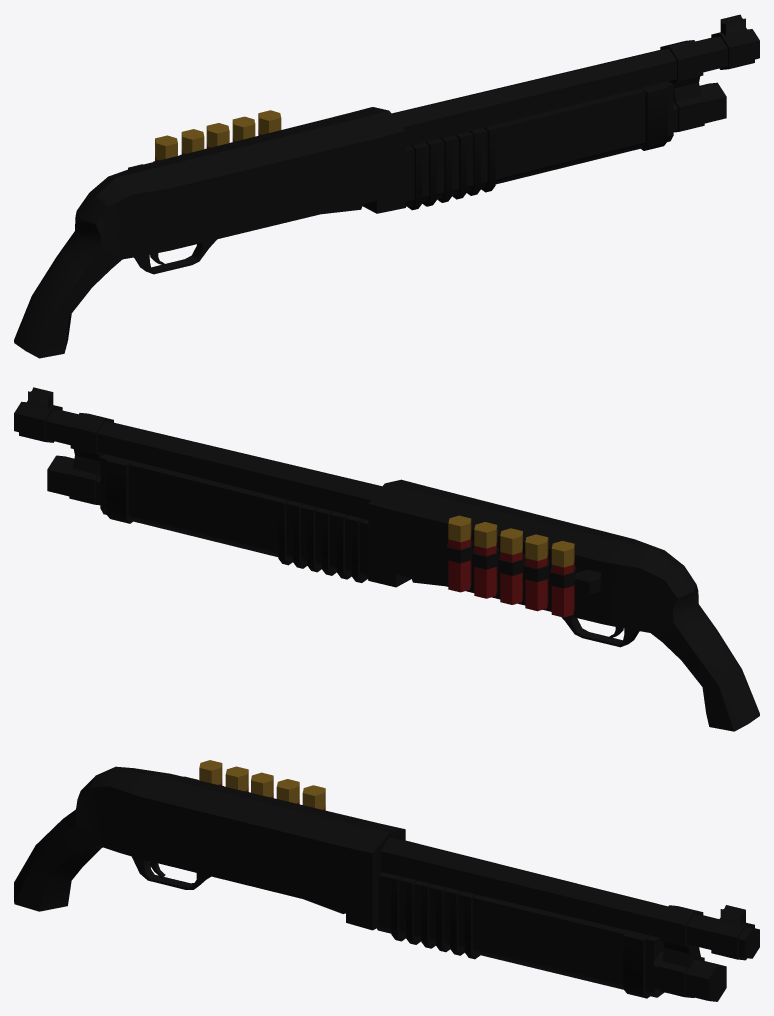
The model's file is Shotgun.FBX.
The picture shows the model from 3 angles, top to bottom: view 1: azimuth 30°, elevation 25°; view 2: azimuth 150°, elevation 25°; view 3: azimuth 330°, elevation 25°; orthographic projection.
Parts seen in each view (by area): view 1: Shotgun_002; view 2: Shotgun_002; view 3: Shotgun_002.
Boxes of the visible parts, x1,y1,x2,y2 form: Shotgun_002: (14, 14, 759, 358); Shotgun_002: (14, 387, 759, 731); Shotgun_002: (14, 760, 759, 1001).
Bounding box in the file's own units: 65.57 × 6.91 × 13.78.
